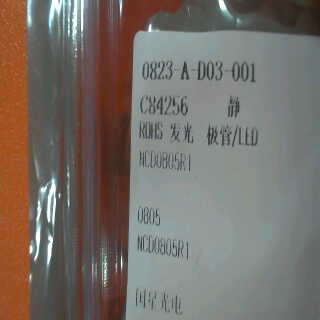LED: (166, 122, 267, 152)
